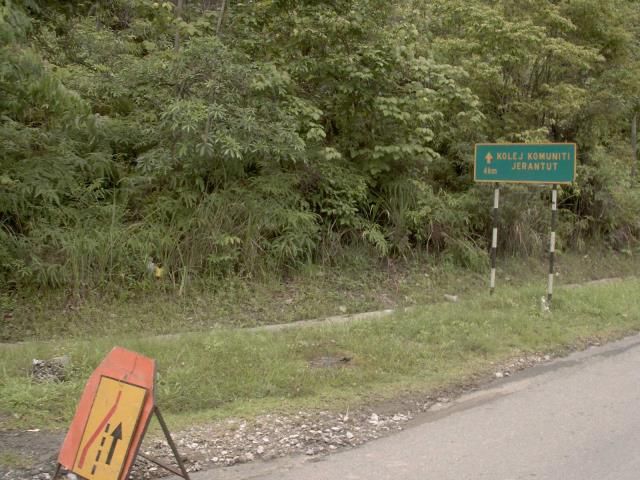ads_sign: (465, 133, 584, 193)
